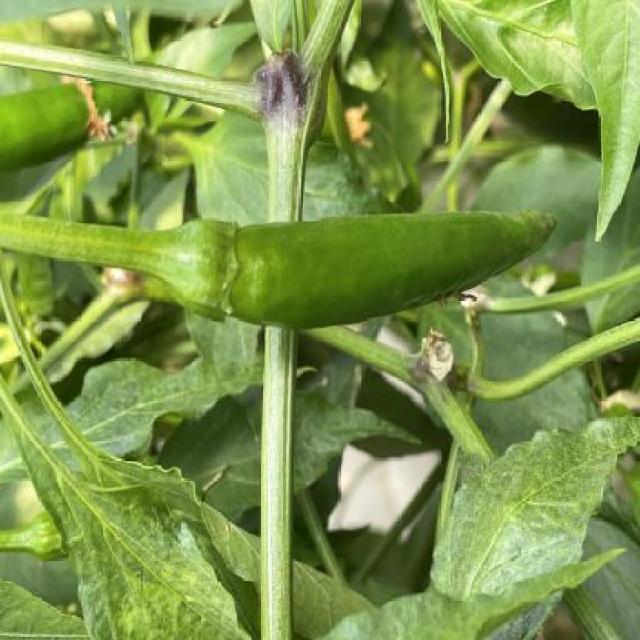green chilli: (170, 209, 558, 328)
